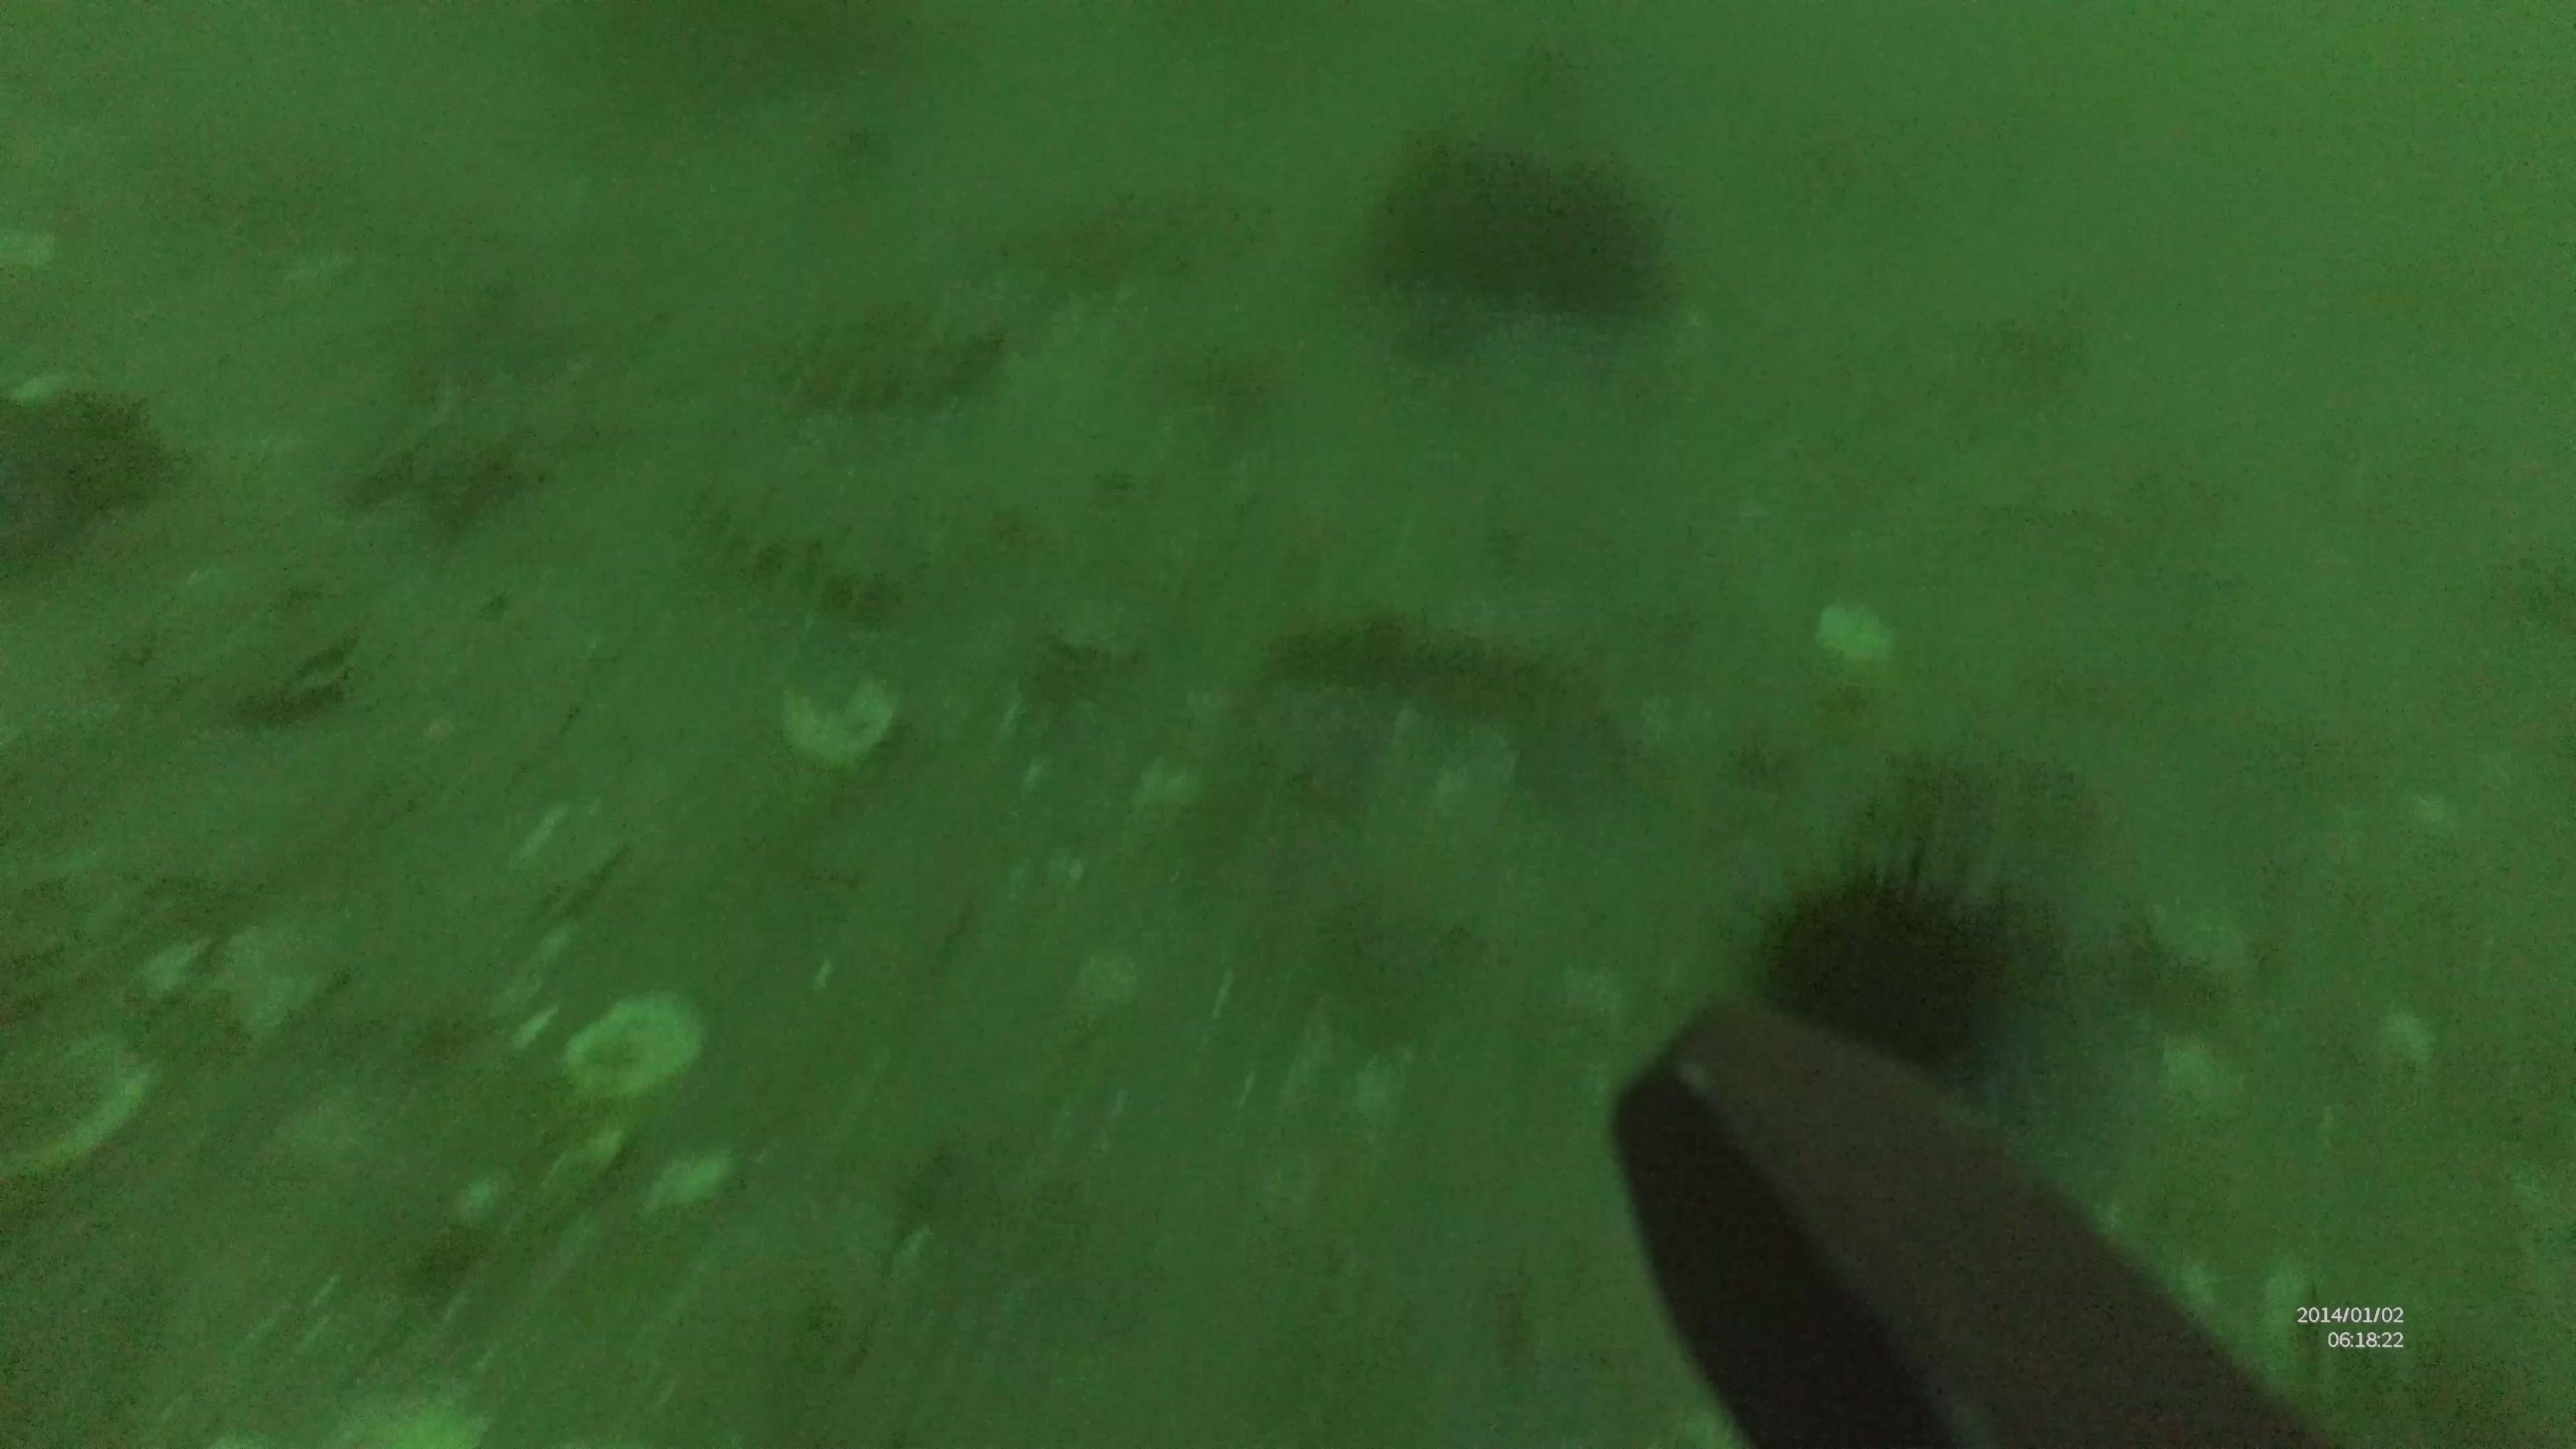echinus: (1755, 837, 2006, 1074)
holothurian: (663, 449, 1000, 598), (789, 285, 1005, 396)
starfish: (345, 396, 550, 541)
